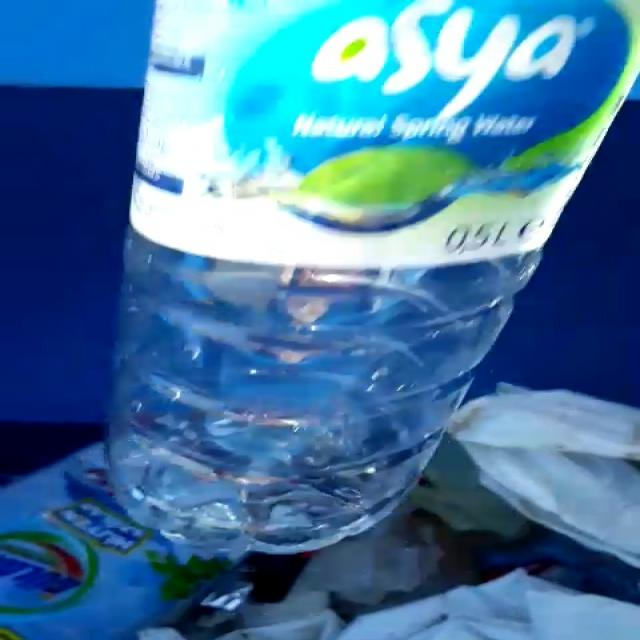plastic: (108, 0, 636, 552)
